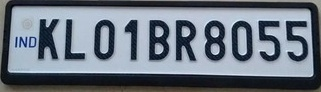character: (257, 18, 281, 62), (285, 19, 308, 62), (37, 17, 59, 61), (64, 17, 86, 60), (204, 19, 226, 62), (230, 20, 253, 61), (93, 18, 115, 59), (148, 19, 170, 60), (175, 19, 196, 61), (123, 18, 138, 61)
